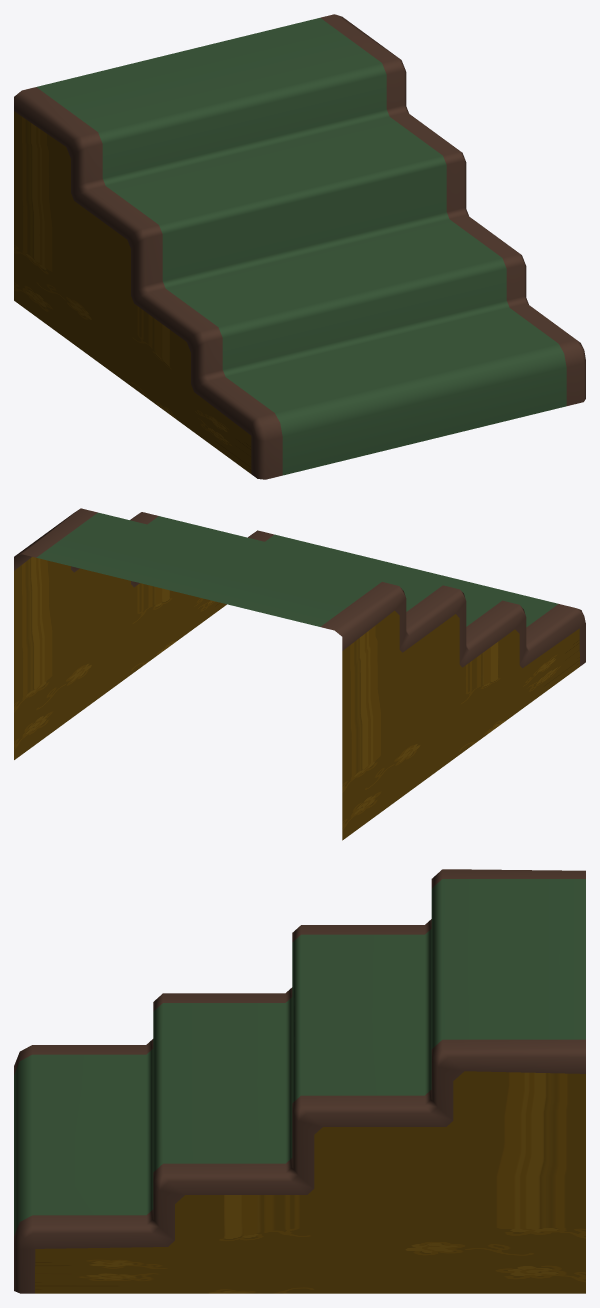
The model's file is stairs_thin_steps.gltf.
The picture shows the model from 3 angles, top to bottom: view 1: azimuth 30°, elevation 25°; view 2: azimuth 150°, elevation 25°; view 3: azimuth 270°, elevation 25°; orthographic projection. The views are drawn at different scales.
Parts seen in each view (by area): view 1: Cube.002; view 2: Cube.002; view 3: Cube.002.
Part boxes in pixels (x1,y1,x2,y2): Cube.002: (14,14,585,479); Cube.002: (14,508,585,840); Cube.002: (14,869,585,1293).
Bounding box in the file's own units: 1.78 × 1.08 × 2.32.
Materials: 3 (1 with a texture image).
